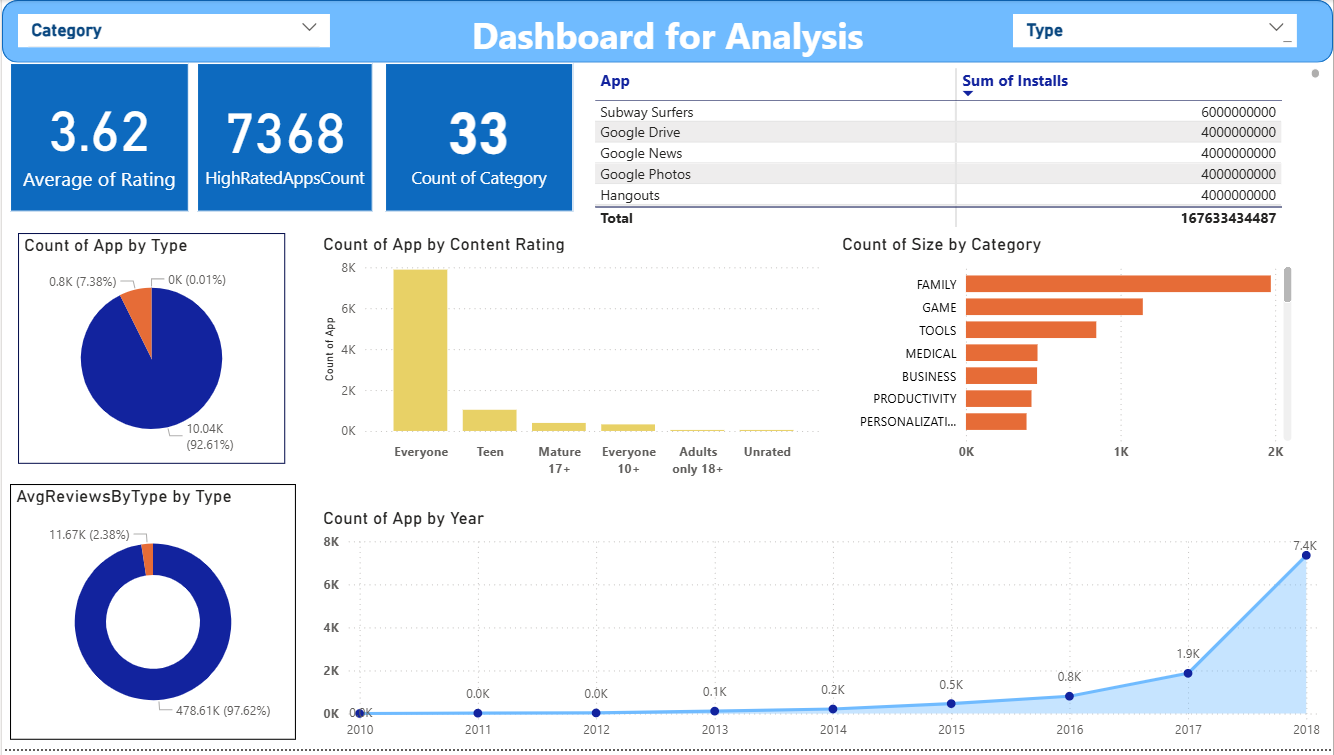

What the dashboard file says about the page in this screenshot:
{"tool":"powerbi","page":{"name":"Dashboard","canvas":[1280,720],"ordinal":0},"visuals":[{"type":"card","fields":{"Values":["Avg(googleplaystore.Rating)"]},"box":[7.8,60.3,172.2,143],"z":0},{"type":"card","fields":{"Values":["Count(googleplaystore.Category)"]},"box":[368.6,60.3,180.9,143],"z":1000},{"type":"pieChart","fields":{"Series":["googleplaystore.Type"],"Y":["CountNonNull(googleplaystore.App)"]},"box":[15.4,224.1,256.8,222.1],"z":2000},{"type":"columnChart","fields":{"Category":["googleplaystore.Content Rating"],"Y":["Count(googleplaystore.App)"]},"box":[303.9,224.1,490.5,241.4],"z":3000},{"type":"tableEx","fields":{"Values":["googleplaystore.App","Sum(googleplaystore.Installs)","select"]},"box":[564.5,60.6,707.8,163.5],"z":4000},{"type":"card","fields":{"Values":["googleplaystore.HighRatedAppsCount"]},"box":[187.7,60.3,169.2,143],"z":5000},{"type":"donutChart","fields":{"Category":["googleplaystore.Type"],"Y":["googleplaystore.AvgReviewsByType"]},"box":[7.7,465.5,275,246.2],"z":6000},{"type":"barChart","fields":{"Category":["googleplaystore.Category"],"Y":["CountNonNull(googleplaystore.Size)"]},"box":[803,224.1,442.4,228.9],"z":7000},{"type":"lineChart","fields":{"Category":["googleplaystore.Last Updated.Variation.Date Hierarchy.Year"],"Y":["CountNonNull(googleplaystore.App)"]},"box":[303.9,487.6,968.4,232.7],"z":8000},{"type":"shape","box":[0,0,1280,60.3],"z":9000}]}

Visuals, with their boxes in screenshot pixels (x1, y1, x2, y2), scaled from the page's 1280x720 canvas onto the 1334x755 screenshot:
card - Avg(googleplaystore.Rating): rect(8, 63, 188, 213)
card - Count(googleplaystore.Category): rect(384, 63, 573, 213)
pieChart - googleplaystore.Type x CountNonNull(googleplaystore.App): rect(16, 235, 284, 468)
columnChart - googleplaystore.Content Rating x Count(googleplaystore.App): rect(317, 235, 828, 488)
tableEx - googleplaystore.App x Sum(googleplaystore.Installs): rect(588, 64, 1326, 235)
card - googleplaystore.HighRatedAppsCount: rect(196, 63, 372, 213)
donutChart - googleplaystore.Type x googleplaystore.AvgReviewsByType: rect(8, 488, 295, 746)
barChart - googleplaystore.Category x CountNonNull(googleplaystore.Size): rect(837, 235, 1298, 475)
lineChart - googleplaystore.Last Updated.Variation.Date Hierarchy.Year x CountNonNull(googleplaystore.App): rect(317, 511, 1326, 754)
shape: rect(0, 0, 1333, 63)
